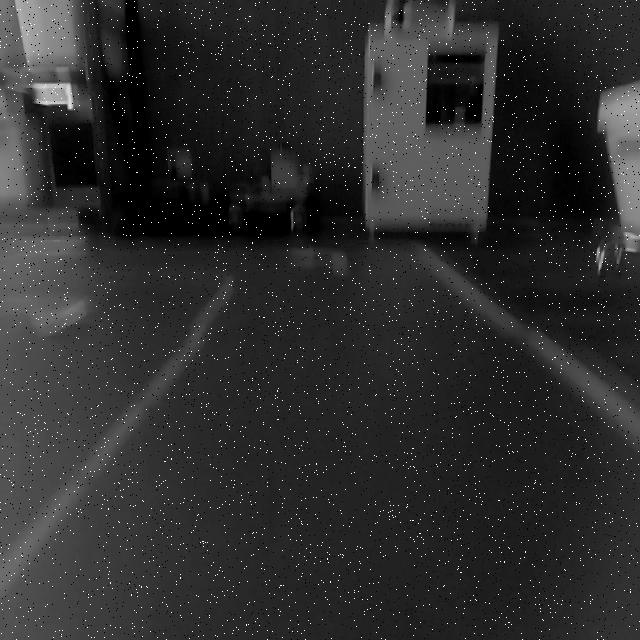left_lane: (0, 280, 234, 605)
right_lane: (414, 248, 640, 451)
